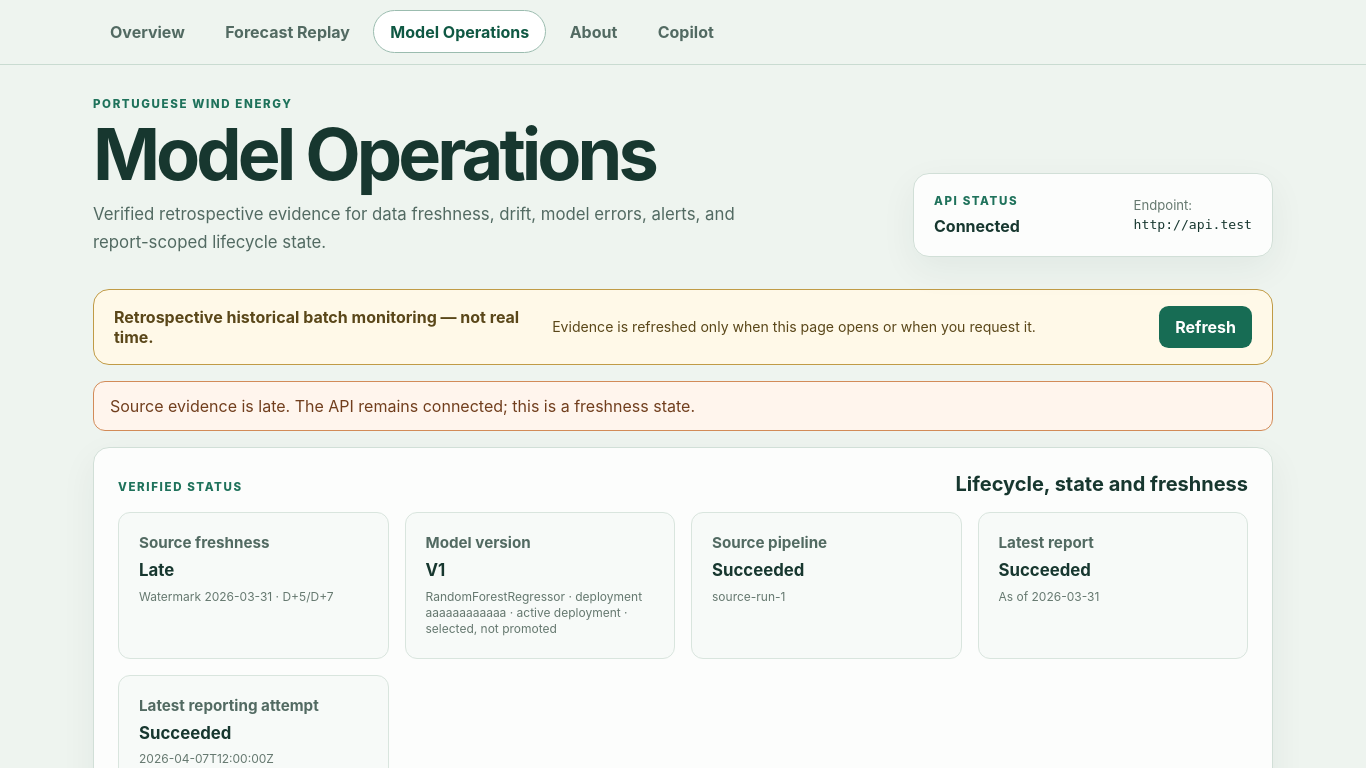
App pages › refreshes only on demand and surfaces a history error independently
Check: the heading "Connected" is shown, box [934,216,1020,236]
Click the button "Refresh" at (1206, 326), box [1159,306,1252,348]
(page scrolled)
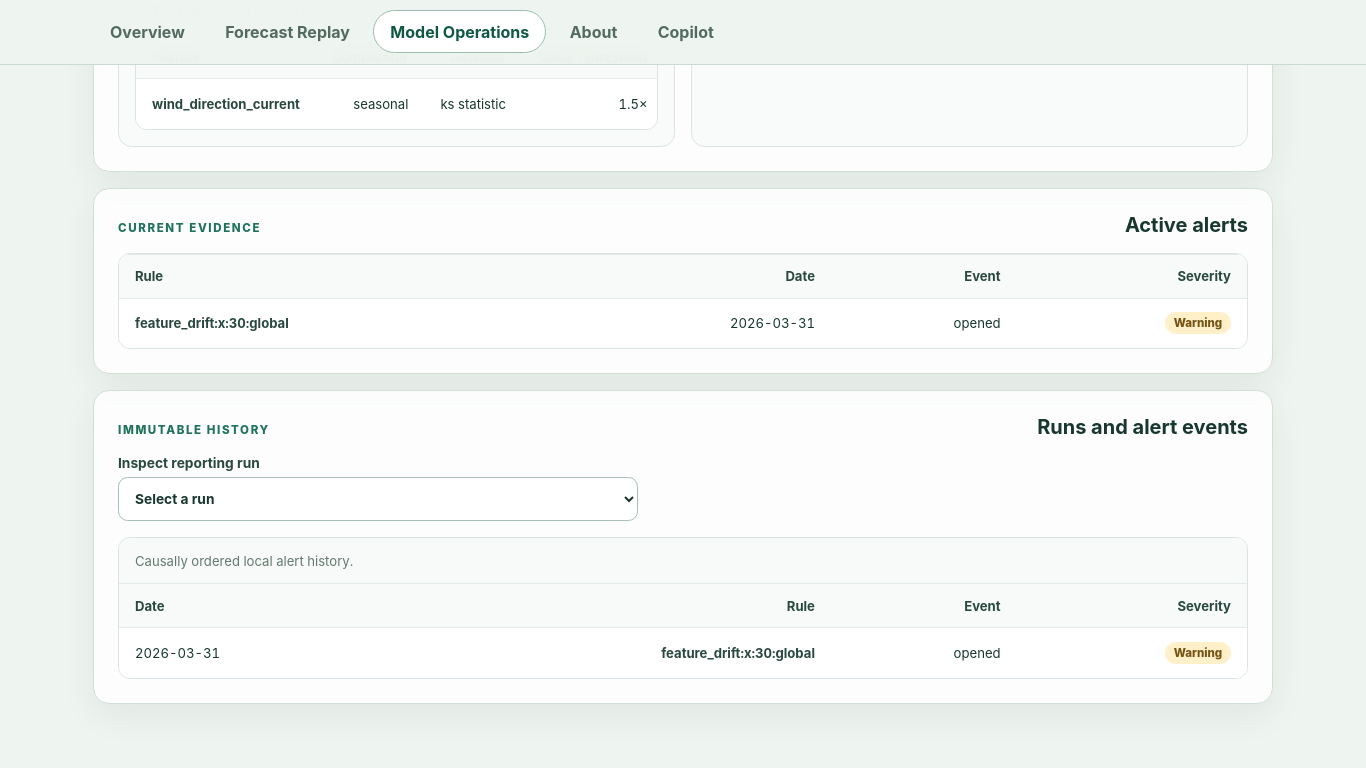
Check: the dropdown labelled "Inspect reporting run" is shown, box [118,477,638,521]
